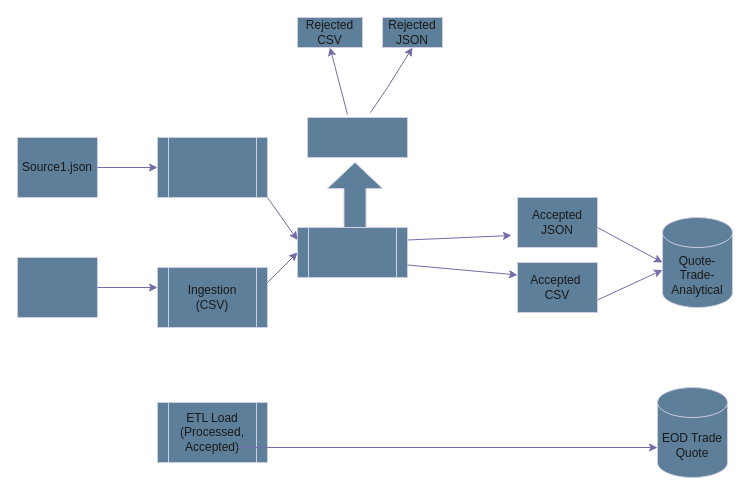
Some shapes in this 750 by 495 pixel diagram are drawn without their labels. Here are the shapes that lost their labels. From the top down, the box of each, then its label:
(306, 116, 408, 158): Rejected Files
(156, 136, 268, 198): Ingestion (JSON)
(296, 226, 408, 278): Analytical ETL
(16, 256, 98, 318): Source2.csv
